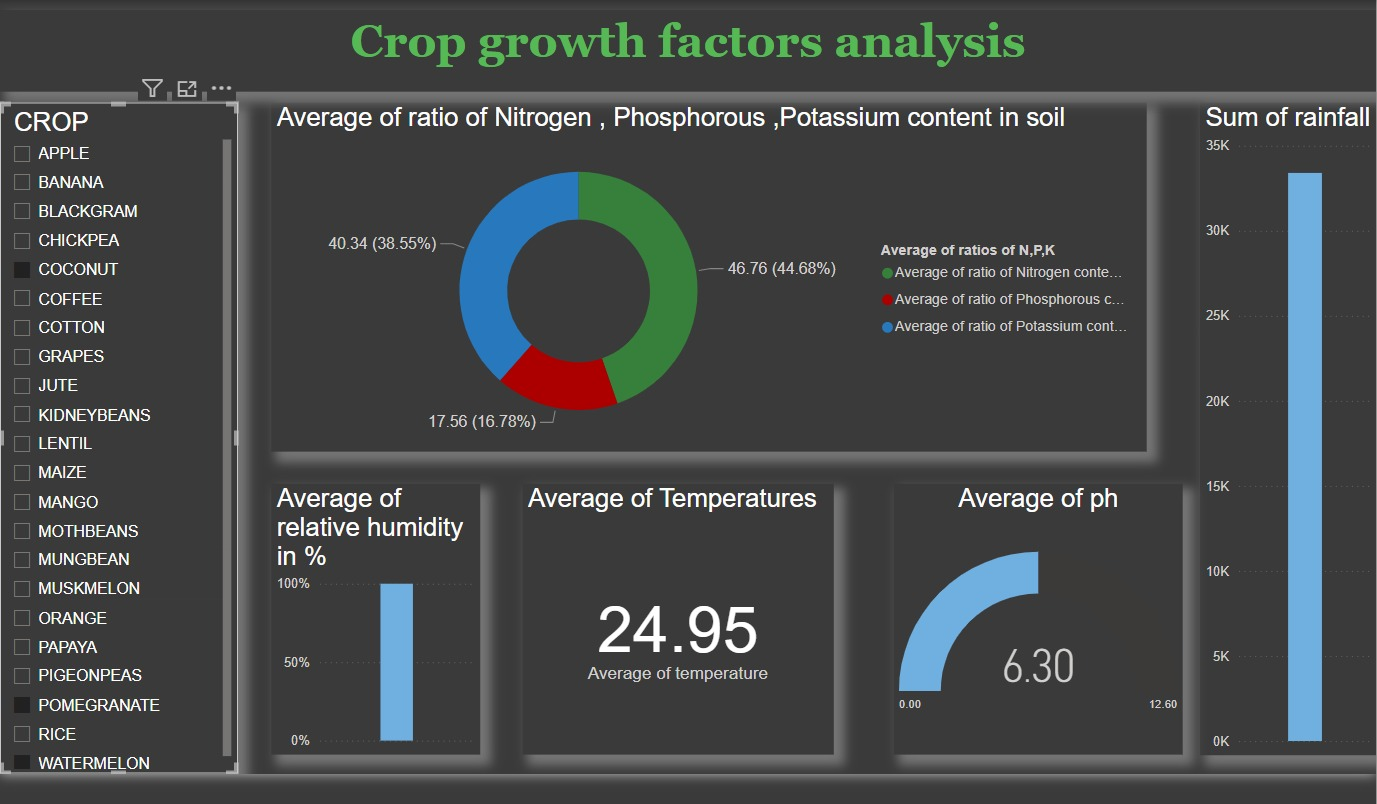

This screenshot's page, from the dashboard's own definition file:
{"tool":"powerbi","page":{"name":"Page 1","canvas":[1280,720],"ordinal":0},"visuals":[{"type":"slicer","fields":{"Values":["Crop_recommendation.label"]},"box":[0,95,220.5,625.3],"z":0},{"type":"donutChart","title":"Average of ratio of Nitrogen , Phosphorous ,Potassium content in soil","fields":{"Y":["Avg(Crop_recommendation.N)","Avg(Crop_recommendation.P)","Avg(Crop_recommendation.K)"]},"box":[252.1,95,814.1,324.5],"z":1000},{"type":"ribbonChart","fields":{"Y":["Sum(Crop_recommendation.rainfall)"]},"box":[1116,95,163.9,607.2],"z":2000},{"type":"gauge","fields":{"Y":["Avg(Crop_recommendation.ph)"]},"box":[831,450,269.1,252.1],"z":3000},{"type":"card","title":"Average of Temperatures","fields":{"Values":["Avg(Crop_recommendation.temperature)"]},"box":[486.2,450,289.4,252.1],"z":4000},{"type":"hundredPercentStackedColumnChart","fields":{"Y":["Avg(Crop_recommendation. relative humidity in %)"]},"box":[252.1,450,194.5,252.1],"z":5000},{"type":"textbox","box":[0,9,1279.9,75.8],"z":6000}]}

Visuals, with their boxes in screenshot pixels (x1, y1, x2, y2):
slicer - Crop_recommendation.label: BBox(0, 119, 194, 782)
"Average of ratio of Nitrogen , Phosphorous ,Potassium content in soil" donutChart: BBox(228, 119, 1092, 463)
ribbonChart - Sum(Crop_recommendation.rainfall): BBox(1145, 119, 1318, 763)
gauge - Avg(Crop_recommendation.ph): BBox(842, 495, 1128, 763)
"Average of Temperatures" card: BBox(476, 495, 783, 763)
hundredPercentStackedColumnChart - Avg(Crop_recommendation. relative humidity in %): BBox(228, 495, 434, 763)
textbox: BBox(0, 27, 1318, 108)
